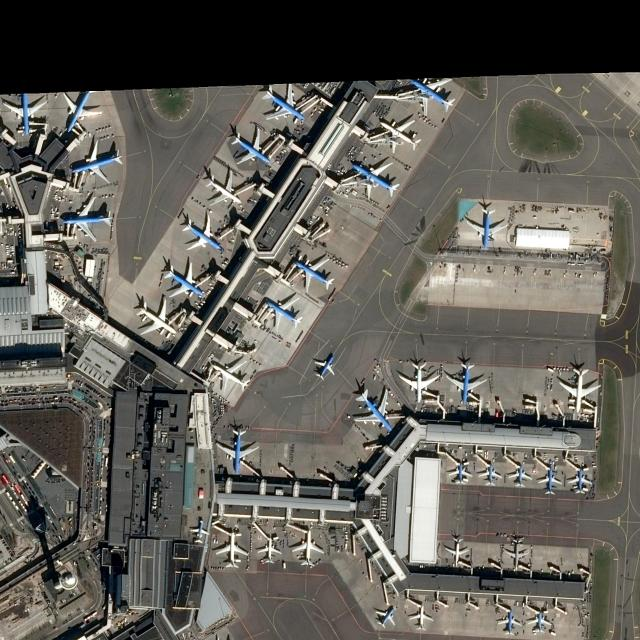1: (2, 92, 49, 134), (61, 89, 103, 133)
aircraft: (60, 193, 114, 241), (70, 138, 122, 184), (556, 366, 601, 413), (397, 358, 442, 404), (351, 160, 401, 201), (352, 384, 394, 432), (444, 360, 488, 405), (406, 77, 456, 116), (216, 426, 258, 472), (228, 125, 273, 167), (466, 206, 508, 249), (259, 84, 306, 122), (161, 259, 205, 299), (134, 296, 178, 336), (180, 212, 222, 252), (291, 256, 335, 294), (201, 168, 243, 206), (378, 116, 422, 152), (208, 357, 250, 392), (262, 296, 304, 330), (215, 529, 248, 570), (292, 529, 324, 567), (503, 535, 530, 569), (443, 535, 471, 567), (256, 535, 282, 564), (538, 466, 562, 496), (409, 604, 435, 631), (567, 468, 593, 494), (311, 353, 336, 380), (497, 607, 521, 635), (527, 607, 552, 633), (448, 460, 472, 486), (373, 604, 398, 628), (478, 463, 503, 486), (508, 464, 532, 487)
